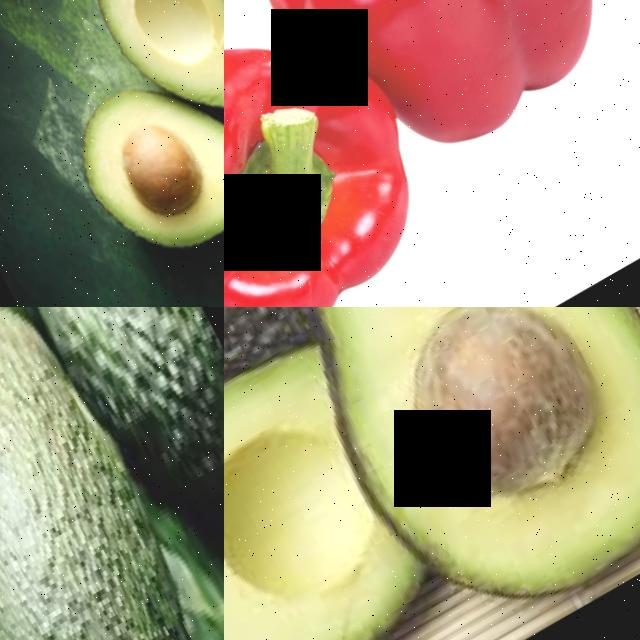avocado: (224, 307, 640, 640), (224, 327, 478, 640), (0, 307, 224, 640), (47, 44, 224, 294), (62, 0, 224, 163), (176, 448, 224, 640)
bell pepper: (224, 0, 640, 209), (224, 0, 465, 307)
